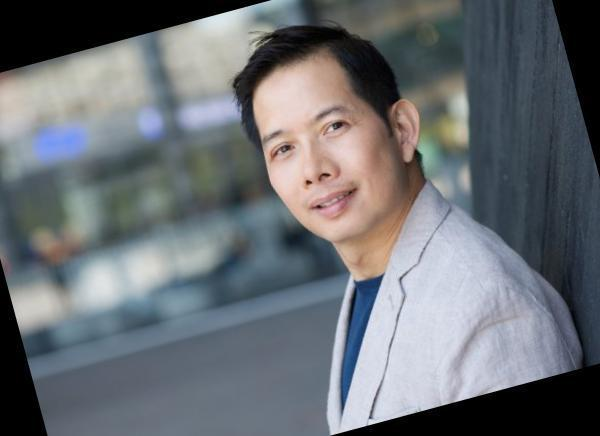Sober: (261, 81, 391, 241)
